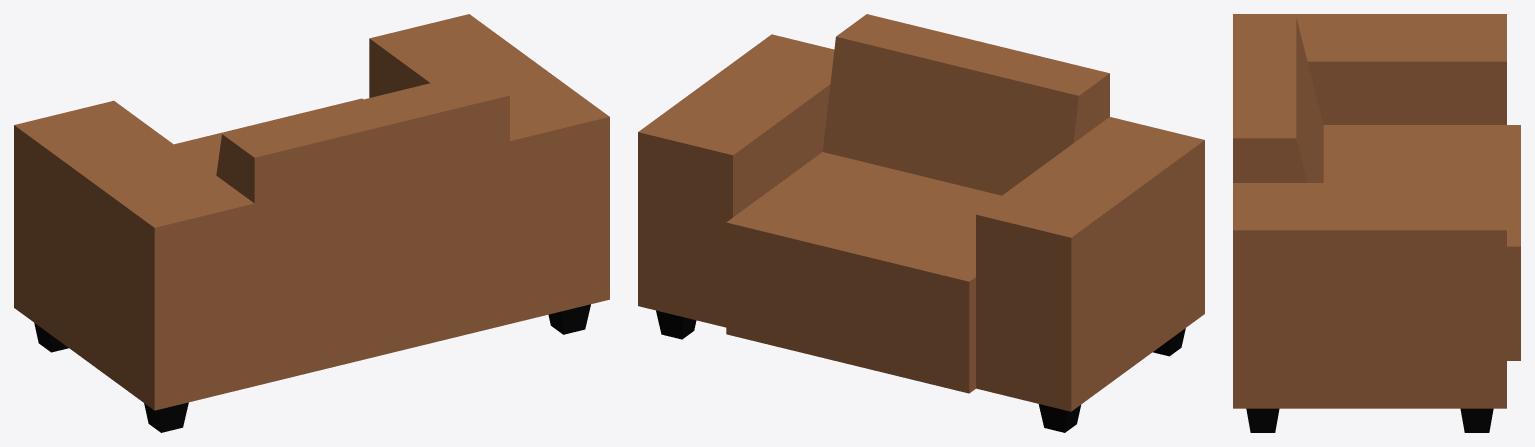
Rendered from Couch.fbx.
3 views of the same model, side by side, from view 1: azimuth 30°, elevation 25°; view 2: azimuth 150°, elevation 25°; view 3: azimuth 270°, elevation 25° (orthographic). The views are drawn at different scales.
Parts seen in each view (by area): view 1: mergedBlocks; view 2: mergedBlocks; view 3: mergedBlocks.
Boxes of the visible parts, bbox=[...] form: mergedBlocks: bbox=[14, 14, 609, 432]; mergedBlocks: bbox=[638, 14, 1204, 432]; mergedBlocks: bbox=[1233, 14, 1520, 432].
Bounding box in the file's own units: 7.3 × 4 × 4.1.
